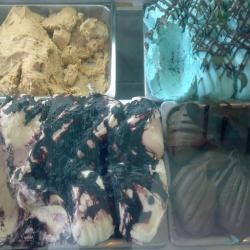icecream: (3, 99, 162, 239), (164, 106, 250, 238), (144, 2, 249, 99), (1, 7, 108, 96)
